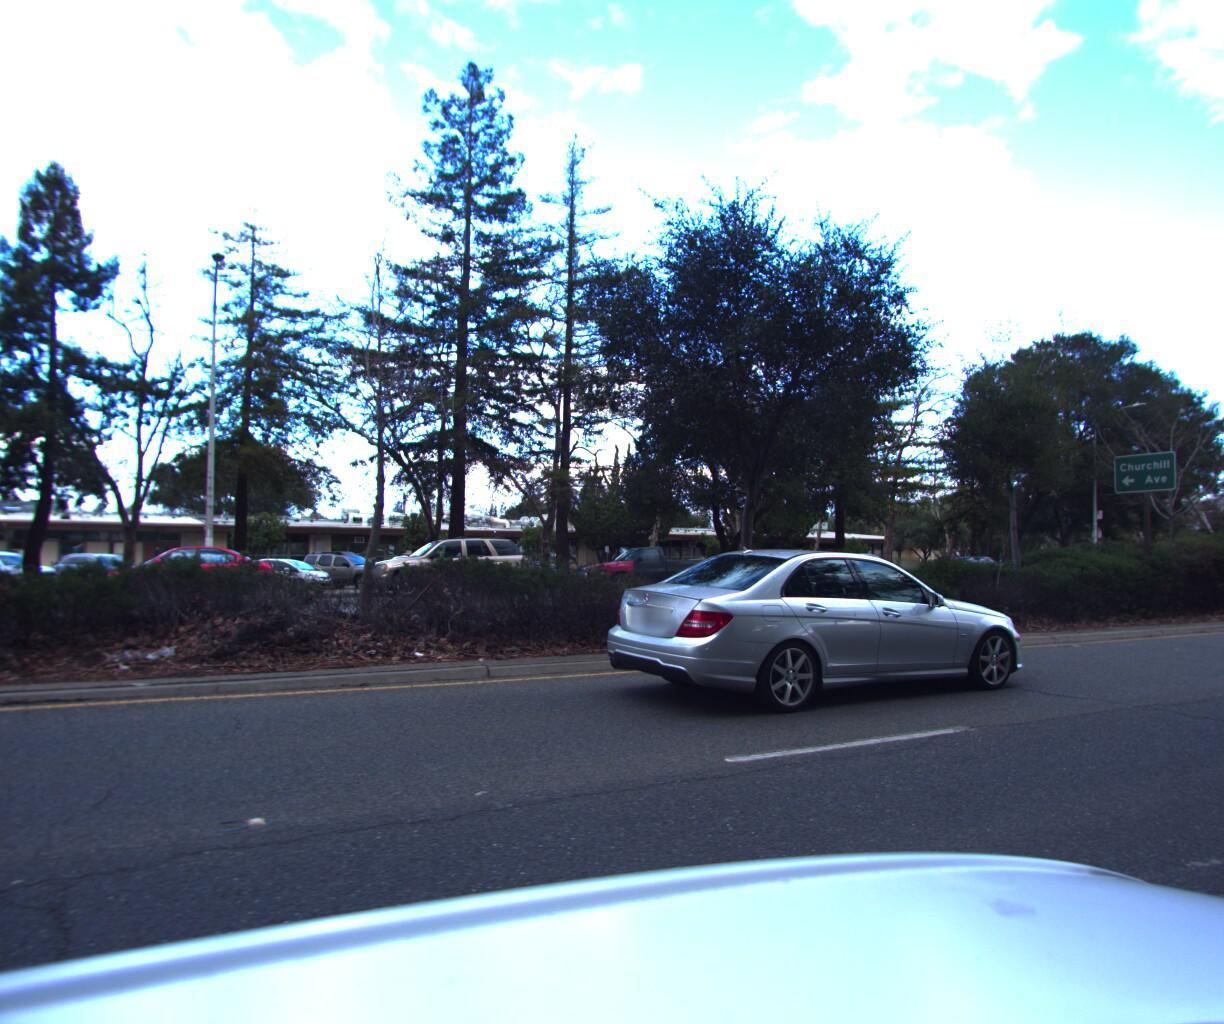car: (580, 535, 1034, 731), (74, 539, 282, 605), (354, 529, 534, 597), (574, 542, 716, 594)
